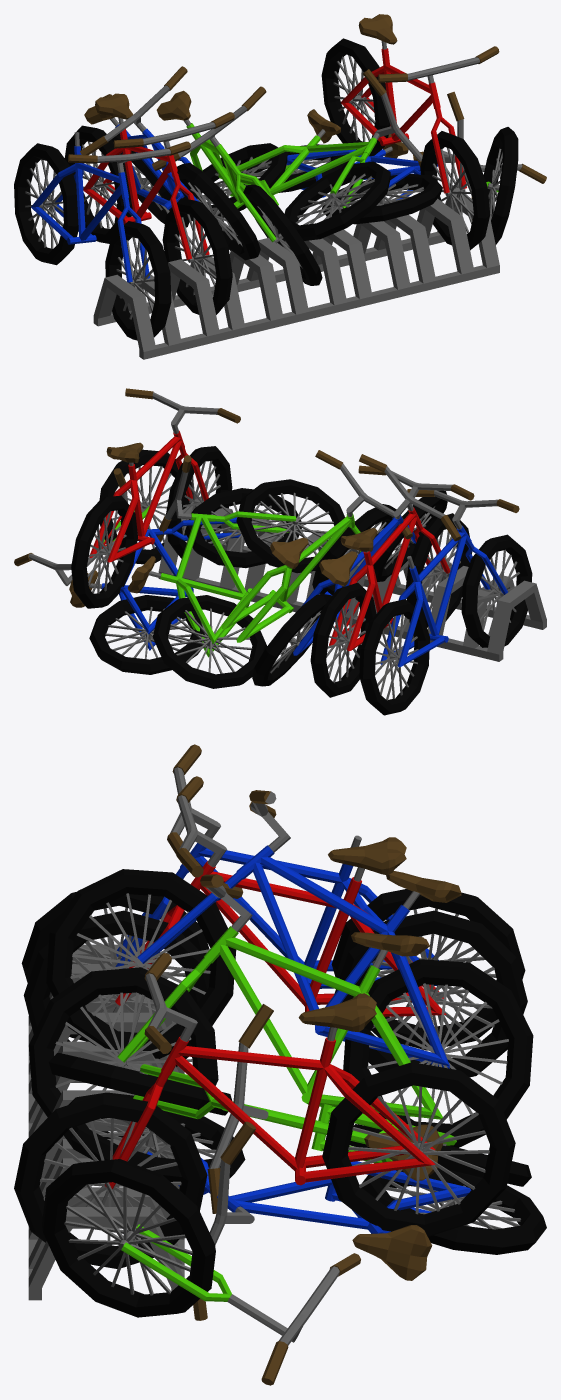
Rendered from Bike_Stand_Chaos.fbx.
The picture shows the model from 3 angles, top to bottom: view 1: azimuth 30°, elevation 25°; view 2: azimuth 150°, elevation 25°; view 3: azimuth 270°, elevation 25°; orthographic projection. The views are drawn at different scales.
Parts seen in each view (by area): view 1: Bike Stand Chaos; view 2: Bike Stand Chaos; view 3: Bike Stand Chaos.
Boxes of the visible parts, x1,y1,x2,y2 form: Bike Stand Chaos: (14, 14, 546, 359); Bike Stand Chaos: (14, 388, 546, 715); Bike Stand Chaos: (14, 744, 546, 1385).
Bounding box in the file's own units: 3.83 × 1.55 × 2.25.
